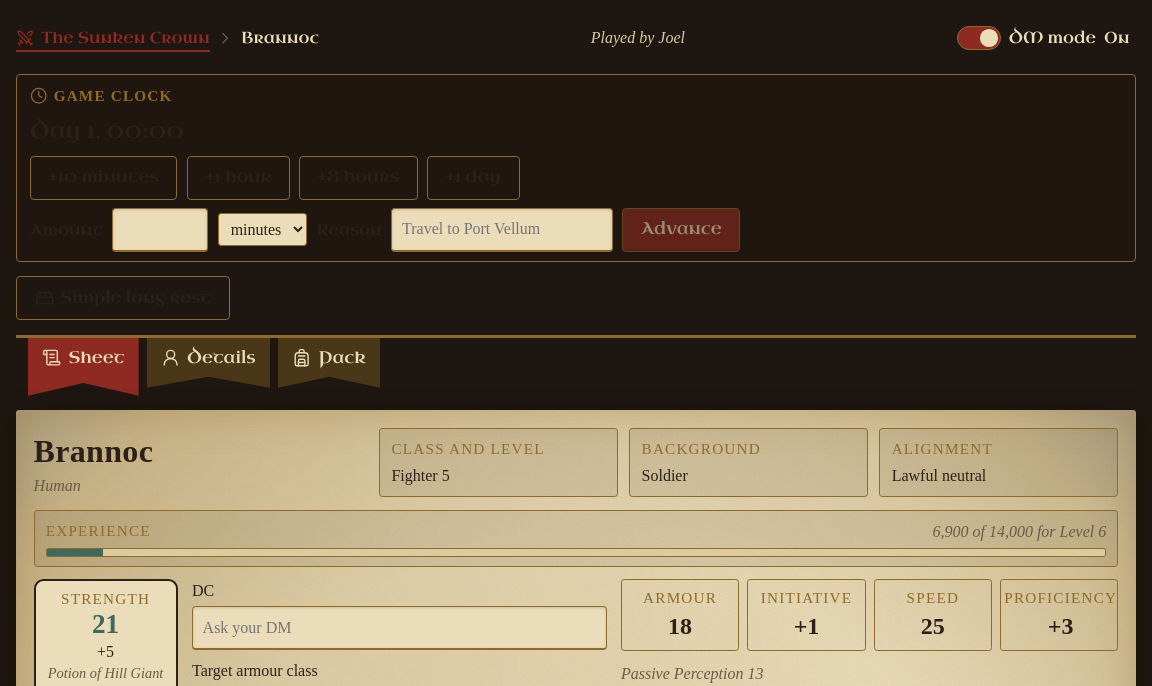
Test: the game clock and the DM effects tool (P2-8) › acceptance 1: the potion at 0, 59 minutes on it has 1 minute left, 2 more and it is gone and the greatsword locks
Type "59" into the number field labelled "Amount" at (160, 230), box [112,208,208,252]
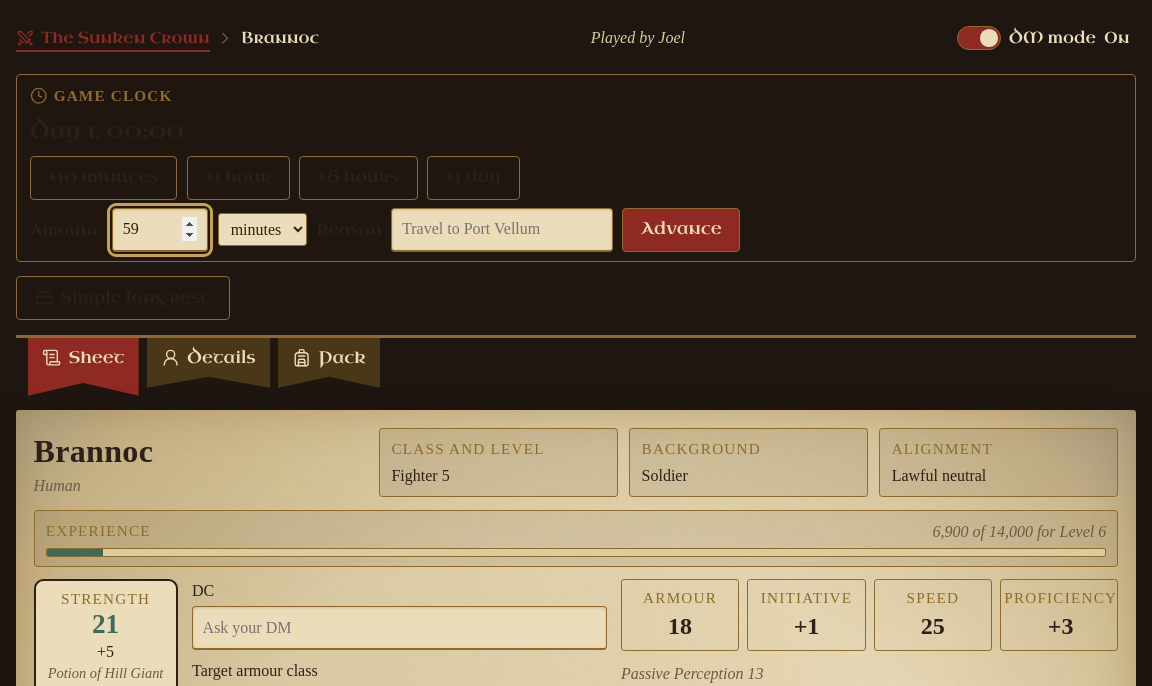
Click the button "Advance" at (681, 230), box [622,208,740,252]
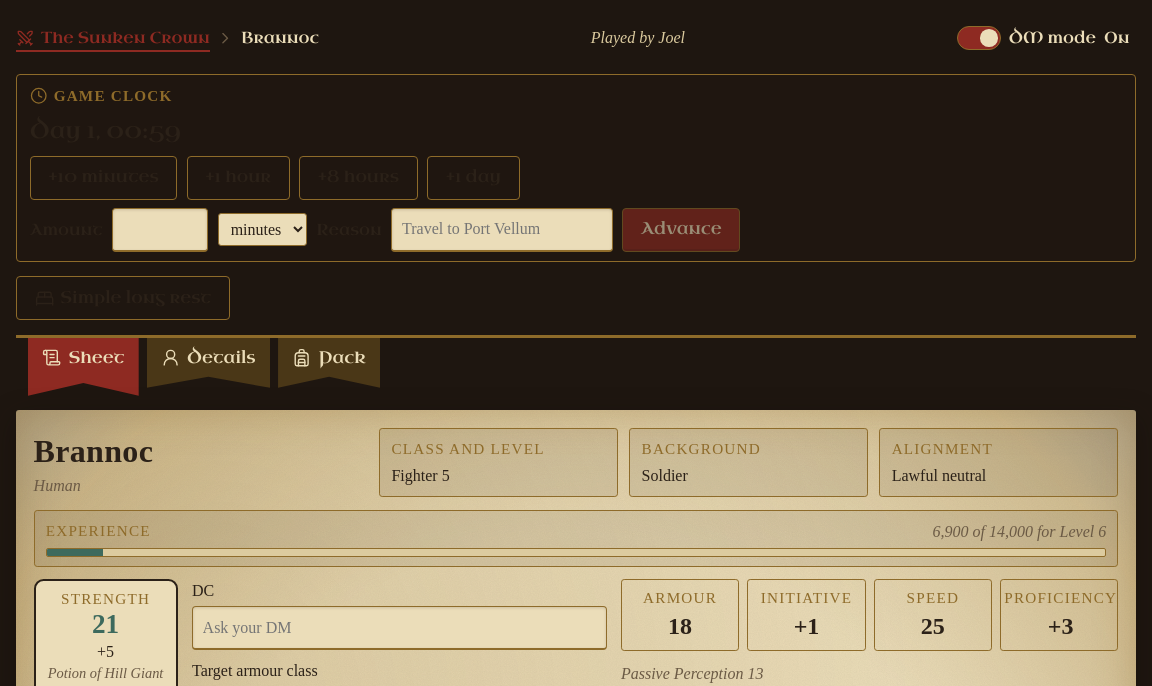
Type "2" into the number field labelled "Amount" at (160, 230), box [112,208,208,252]
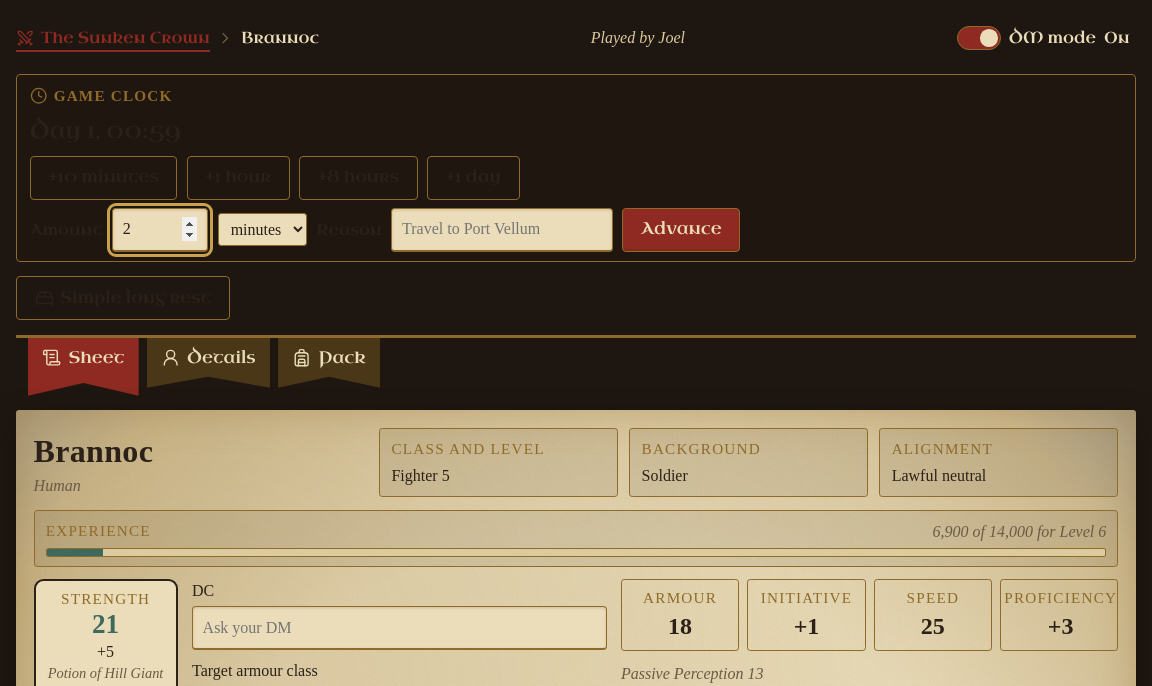
Click the button "Advance" at (681, 230), box [622,208,740,252]
(page scrolled)
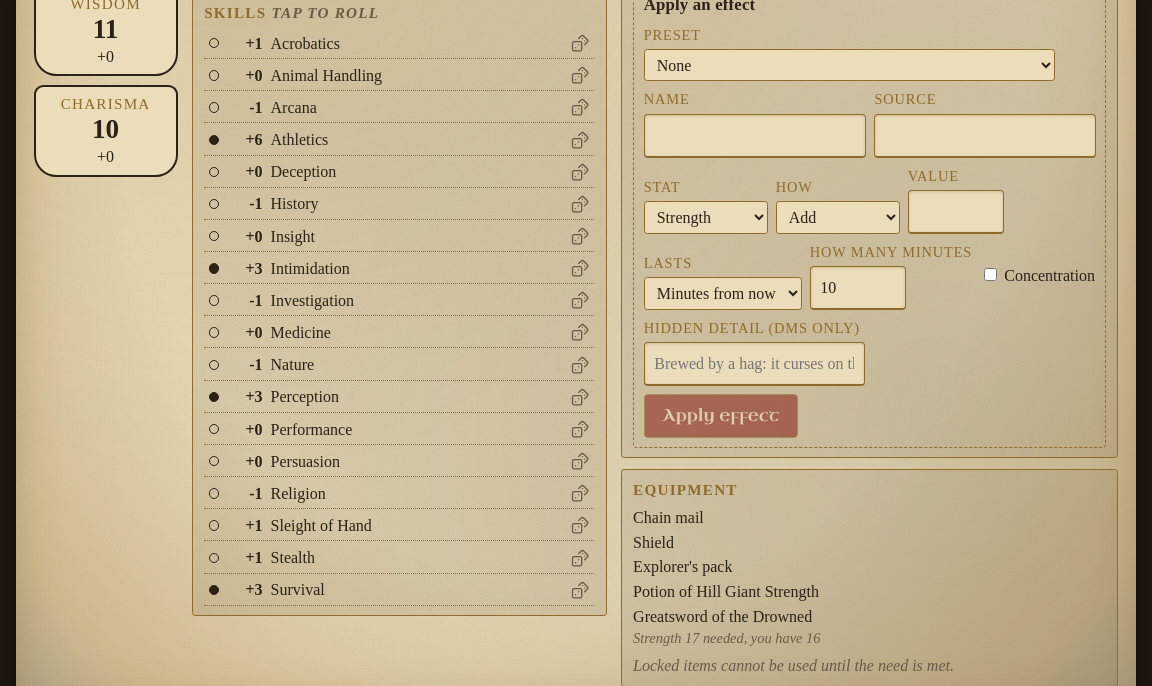
Now the text "Strength 17 needed, you have 16" is shown, box [633,630,820,646]
